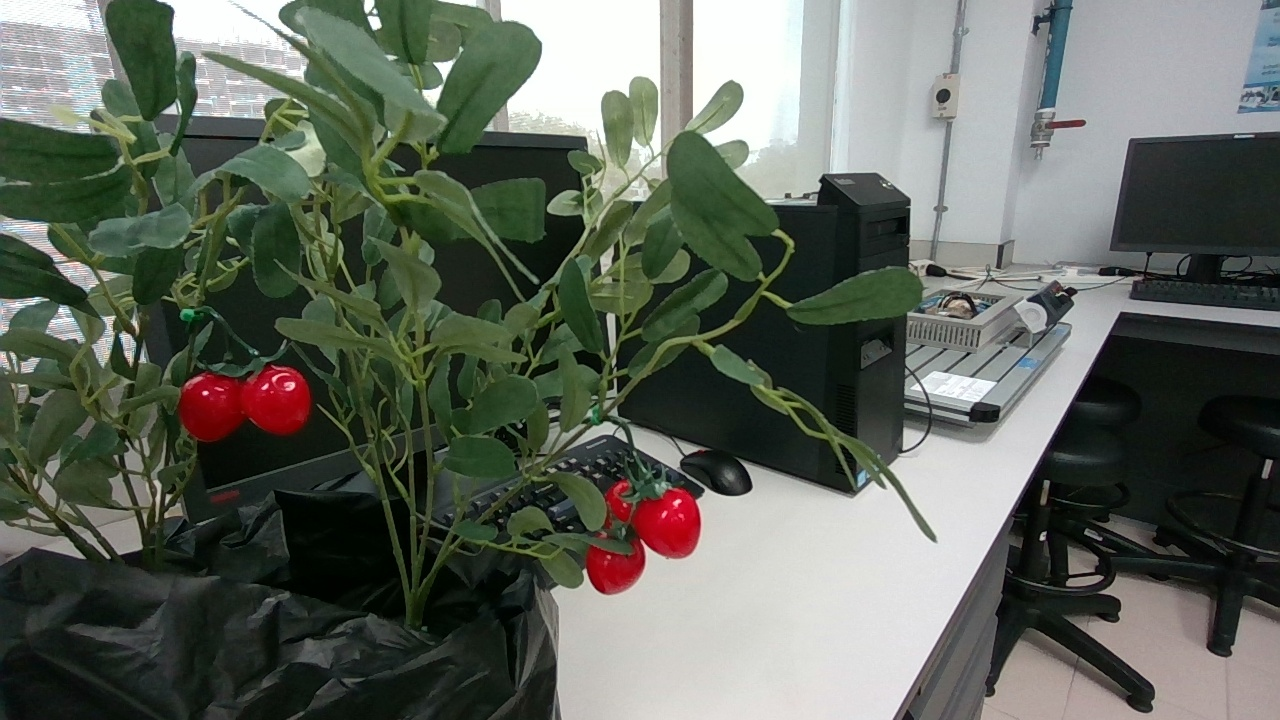peduncle: (607, 416, 634, 450), (202, 306, 230, 330)
strawberry: (633, 488, 702, 558), (241, 364, 310, 434), (177, 371, 245, 442), (586, 538, 646, 594), (605, 479, 634, 522)
